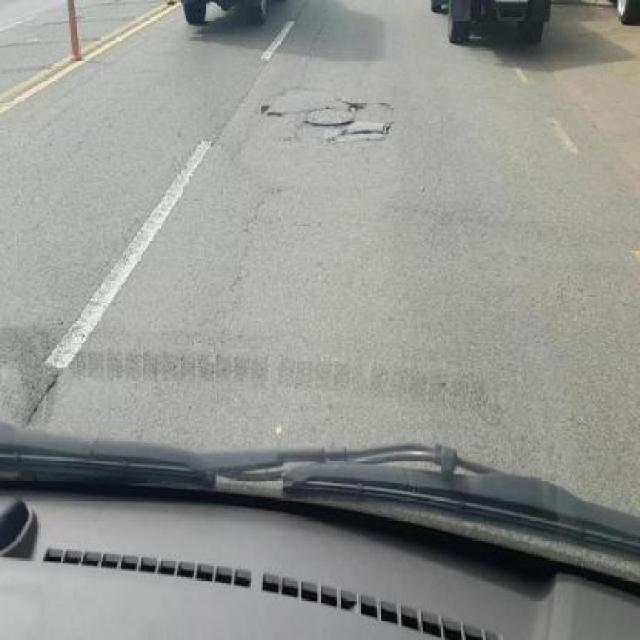Manhole: (303, 97, 368, 128)
